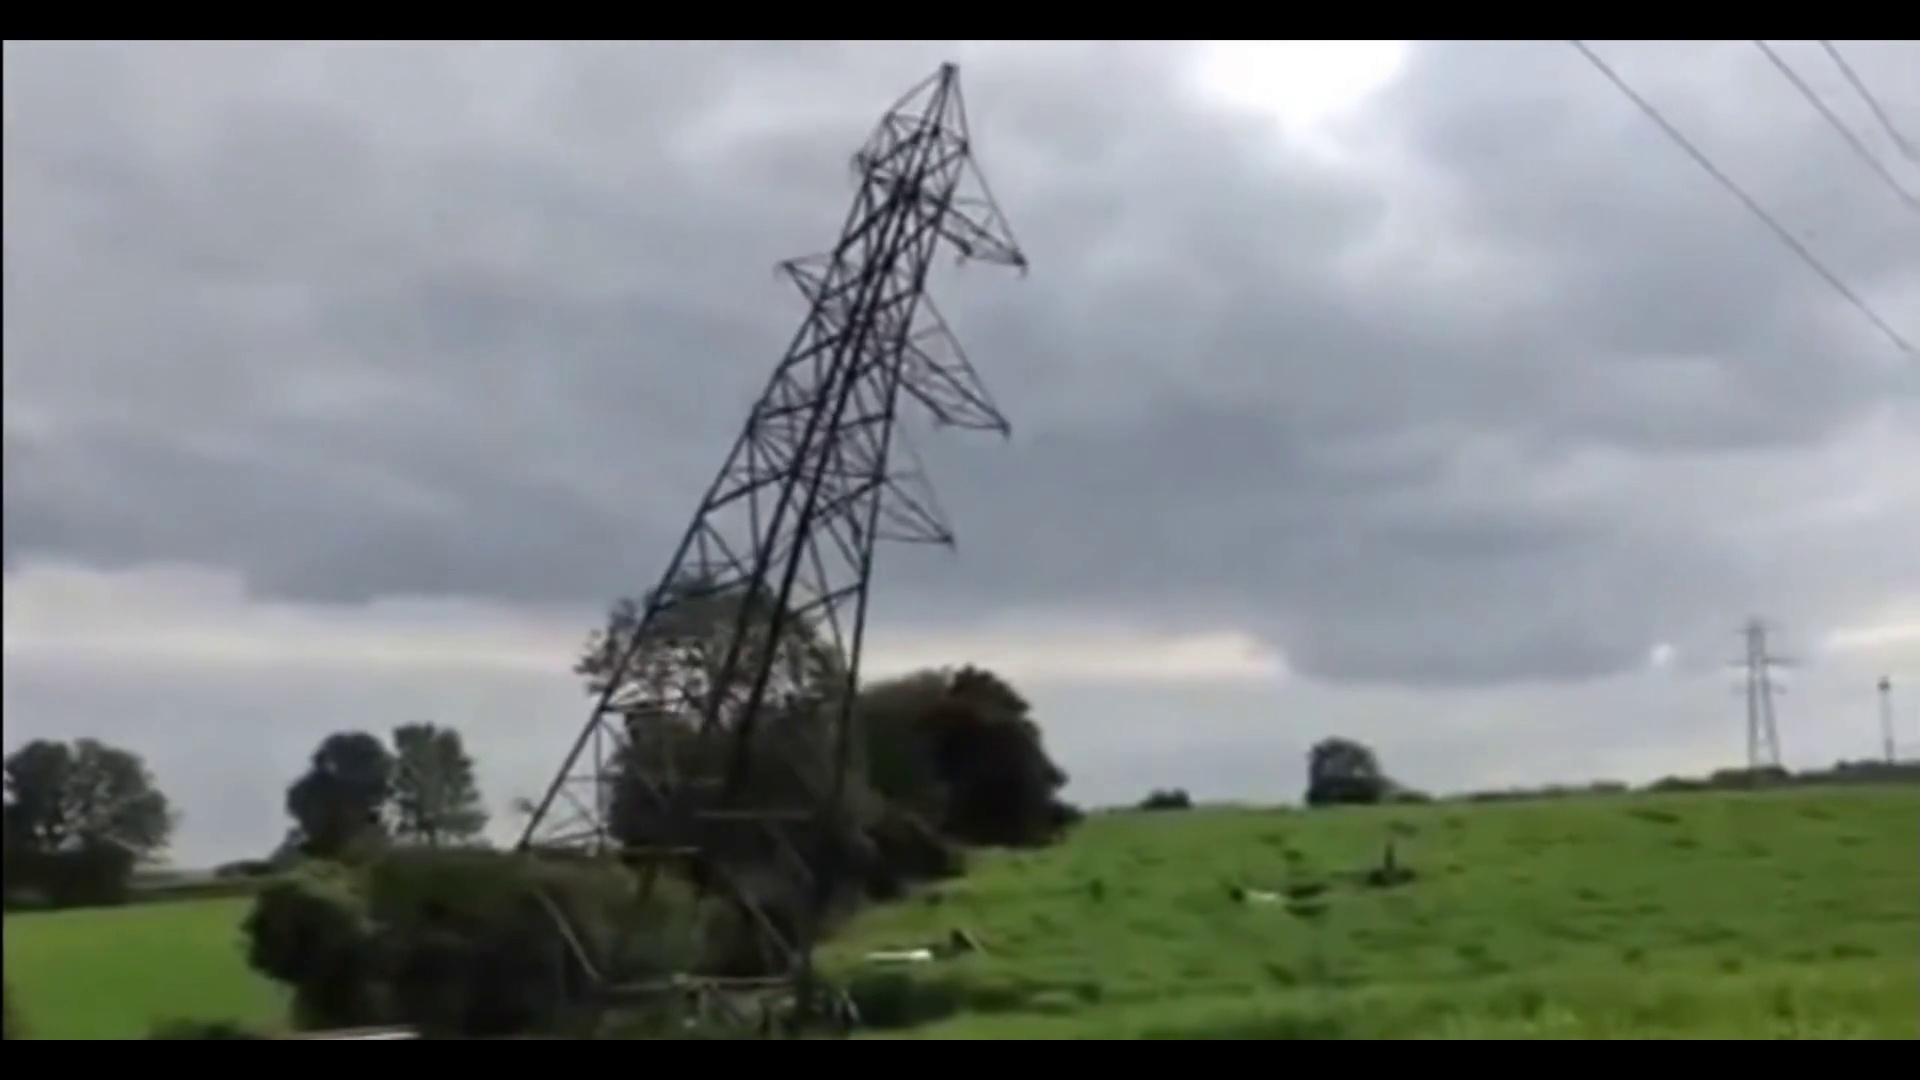tower_up: (492, 49, 1044, 898)
